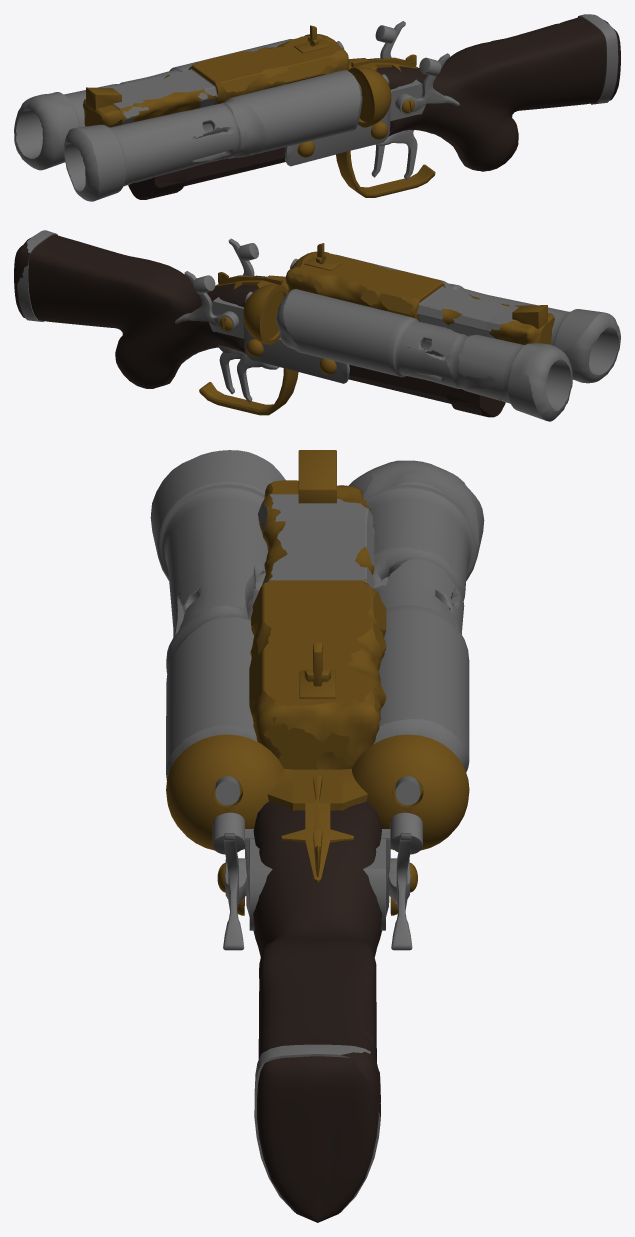
File: Shotgun.fbx
The picture shows the model from 3 angles, top to bottom: view 1: azimuth 30°, elevation 25°; view 2: azimuth 150°, elevation 25°; view 3: azimuth 270°, elevation 25°; orthographic projection. The views are drawn at different scales.
Parts seen in each view (by area): view 1: Barrels, Stock_Grip, Rib.001, Forend, Plane, Pinhead, Triggers.001, TriggerGuard, Rib, Triggers, Bolts_Side; view 2: Barrels, Stock_Grip, Rib.001, Pinhead, Forend, Plane, Triggers.001, TriggerGuard, Triggers, Rib, Bolts_Side; view 3: Barrels, Stock_Grip, Rib.001, Pinhead, Triggers.001, Rib, Plane.
Boxes of the visible parts, <box> form: Barrels: <box>14,39,362,201</box>; Stock_Grip: <box>367,14,620,171</box>; Rib.001: <box>82,34,349,127</box>; Forend: <box>128,147,285,199</box>; Plane: <box>284,79,425,166</box>; Pinhead: <box>305,34,417,127</box>; Triggers.001: <box>375,21,459,114</box>; TriggerGuard: <box>336,151,435,197</box>; Rib: <box>86,25,329,110</box>; Triggers: <box>371,130,417,179</box>; Bolts_Side: <box>297,121,387,157</box>; Barrels: <box>276,254,620,421</box>; Stock_Grip: <box>14,230,266,388</box>; Rib.001: <box>285,252,554,344</box>; Pinhead: <box>216,251,329,344</box>; Forend: <box>349,364,505,417</box>; Plane: <box>209,297,349,383</box>; Triggers.001: <box>175,238,258,332</box>; TriggerGuard: <box>199,368,298,415</box>; Triggers: <box>218,344,279,402</box>; Rib: <box>304,243,547,328</box>; Bolts_Side: <box>246,339,336,374</box>; Barrels: <box>150,450,484,780</box>; Stock_Grip: <box>253,801,382,1222</box>; Rib.001: <box>249,480,386,769</box>; Pinhead: <box>166,734,469,882</box>; Triggers.001: <box>212,812,422,950</box>; Rib: <box>298,450,336,698</box>; Plane: <box>245,829,390,930</box>.
Bounding box in the file's own units: 105 × 33.4 × 27.
